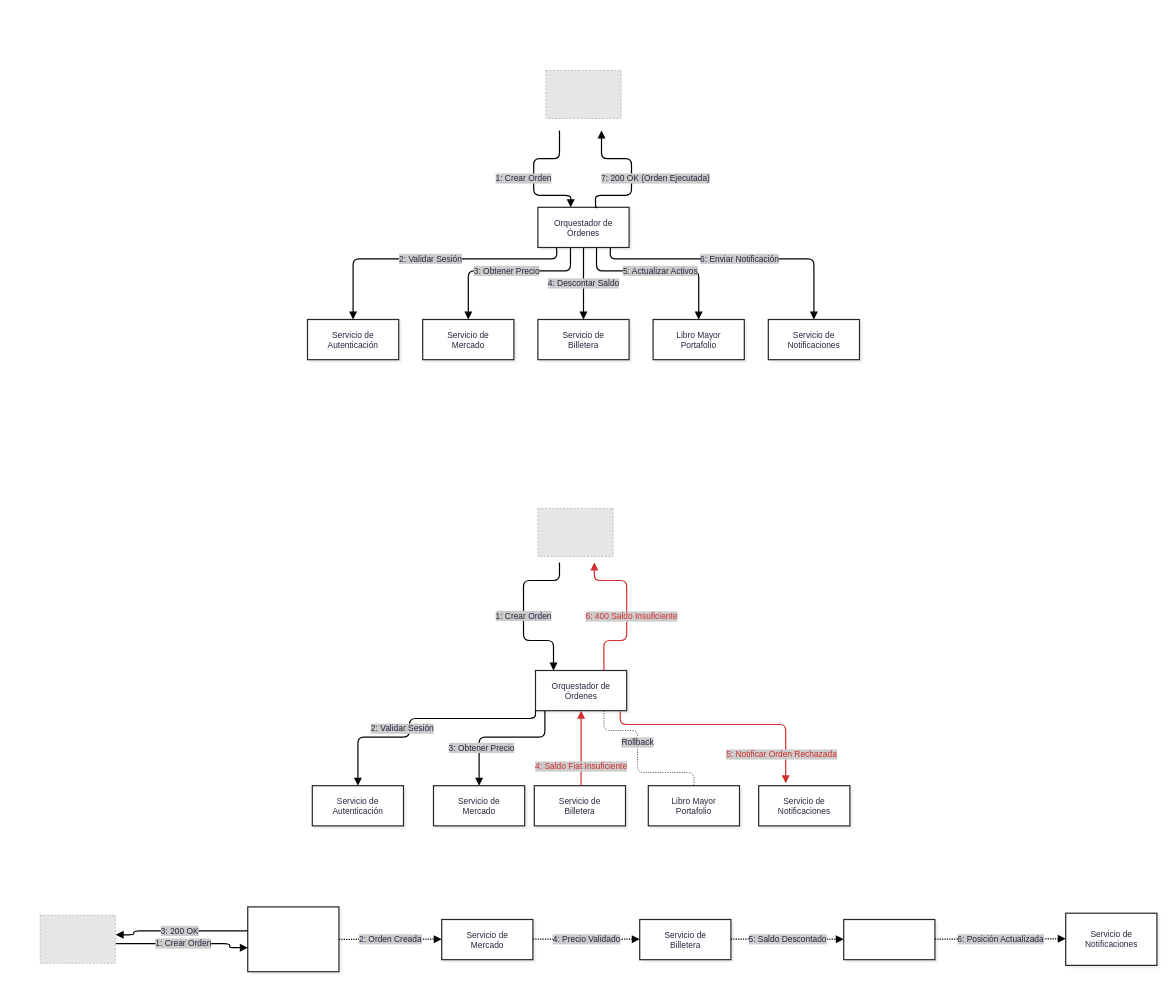
Image size: 1171x998. Some labels were removed from this diagram. Grey dashed boxes stand in for pictures. The shapes that lost their labels are listed below. From the top down, each one's centre as x and y in pixels, then its label:
[294,940]: Servicio de Órdenes
[890,940]: Servicio de Activos
